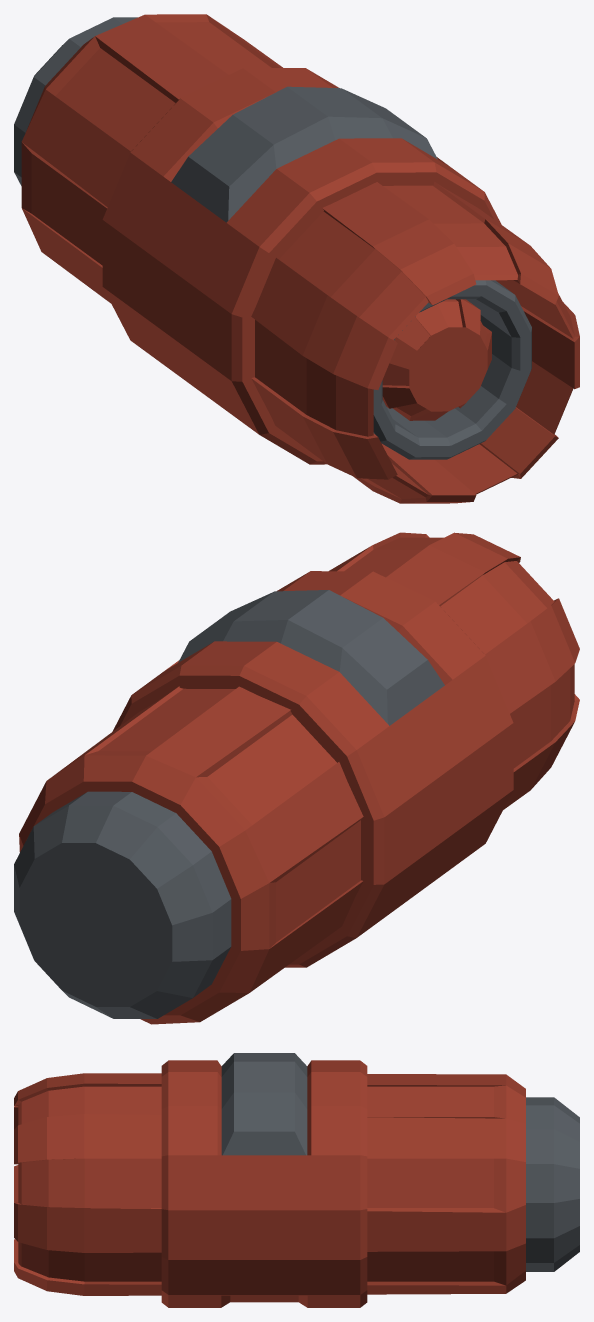
File: Fighter_05_Thruster_2_Red.fbx
3 views of the same model, one above another, from view 1: azimuth 30°, elevation 25°; view 2: azimuth 150°, elevation 25°; view 3: azimuth 270°, elevation 25° (orthographic). The views are drawn at different scales.
Parts seen in each view (by area): view 1: Fighter_05_Thruster_2_Red; view 2: Fighter_05_Thruster_2_Red; view 3: Fighter_05_Thruster_2_Red.
Part boxes in pixels (x1=…): Fighter_05_Thruster_2_Red: x1=14, y1=14, x2=579, y2=503; Fighter_05_Thruster_2_Red: x1=14, y1=532, x2=579, y2=1024; Fighter_05_Thruster_2_Red: x1=14, y1=1053, x2=579, y2=1307.
Size of the model in its own units: 300 by 321 by 703.
Materials: 1 (1 with a texture image).
